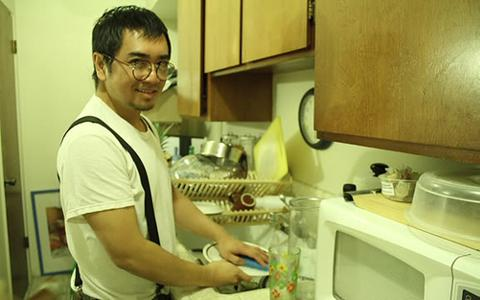person: (54, 6, 272, 299)
